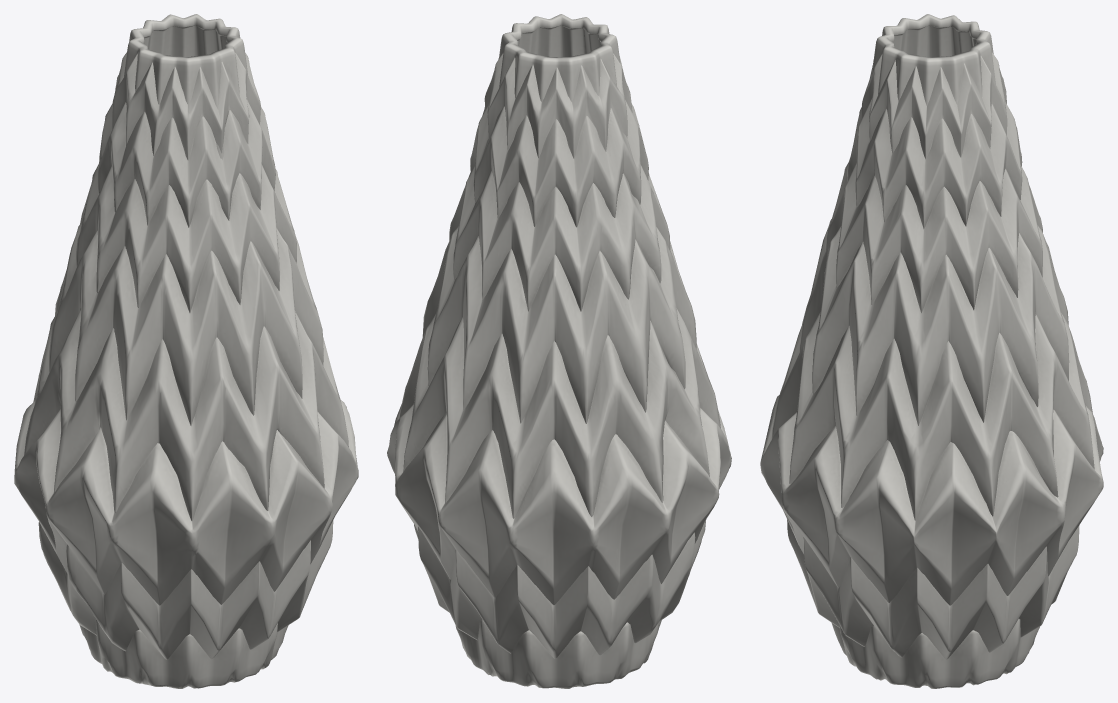
Rendered from B075HWDT2Z.glb.
3 views of the same model, side by side, from view 1: azimuth 30°, elevation 25°; view 2: azimuth 150°, elevation 25°; view 3: azimuth 270°, elevation 25° (orthographic).
Parts seen in each view (by area): view 1: RootNode; view 2: RootNode; view 3: RootNode.
Part boxes in pixels (x1,y1,x2,y2): RootNode: [14, 14, 358, 688]; RootNode: [387, 14, 731, 688]; RootNode: [760, 14, 1103, 688].
Bounding box in the file's own units: 0.1674 × 0.3282 × 0.166.
Materials: 1 (1 with a texture image).
